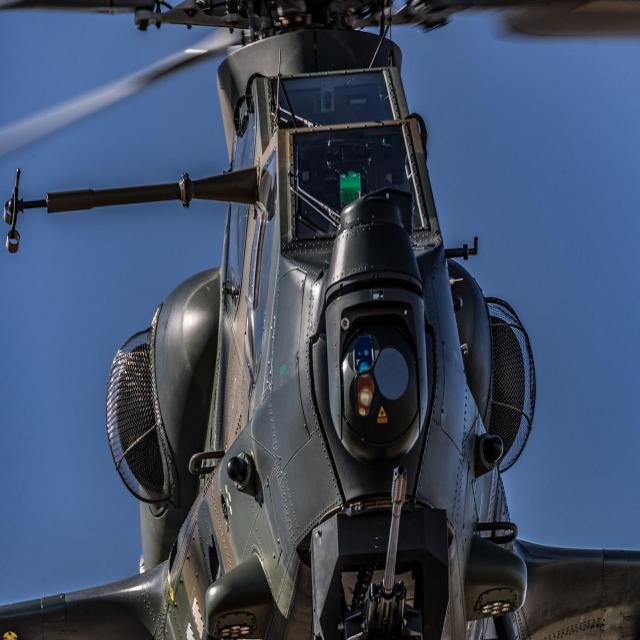MIL_HELO: (0, 0, 578, 640)
